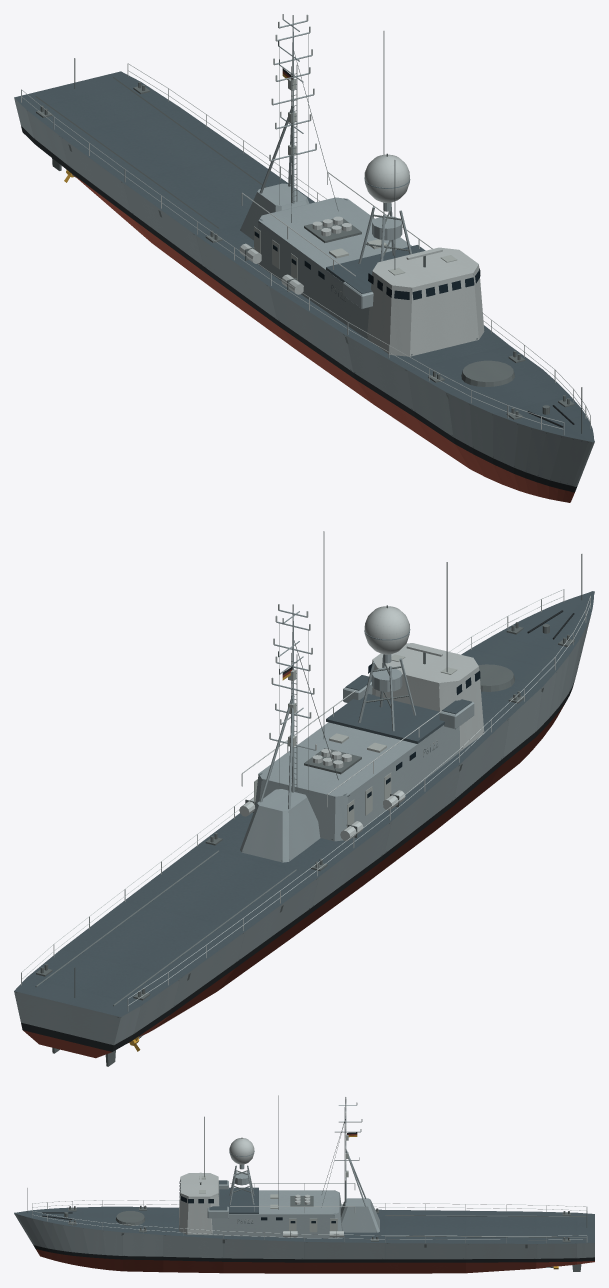
The model's file is hull_gepard.glb.
3 views of the same model, one above another, from view 1: azimuth 30°, elevation 25°; view 2: azimuth 150°, elevation 25°; view 3: azimuth 270°, elevation 25° (orthographic). The views are drawn at different scales.
Visible parts, largest first — view 1: MESH_GEPARD_HULL.004; view 2: MESH_GEPARD_HULL.004; view 3: MESH_GEPARD_HULL.004.
Boxes of the visible parts, box(x1,y1,x2,y2) form: MESH_GEPARD_HULL.004: box(14, 14, 594, 502); MESH_GEPARD_HULL.004: box(14, 531, 594, 1066); MESH_GEPARD_HULL.004: box(14, 1095, 594, 1273).
Size of the model in its own units: 7.8 by 19.45 by 57.6.
Materials: 1 (1 with a texture image).
